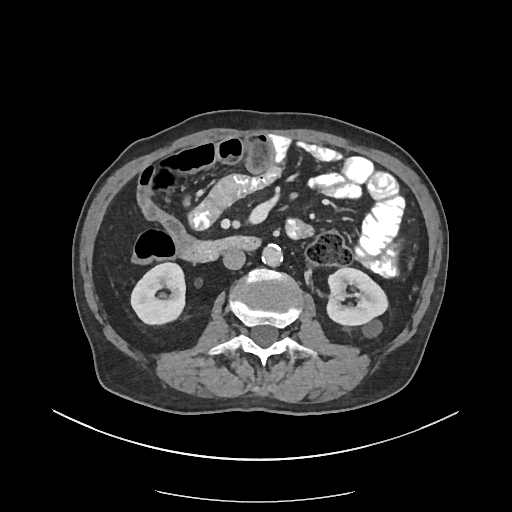Lesion: (356, 317, 385, 342)
